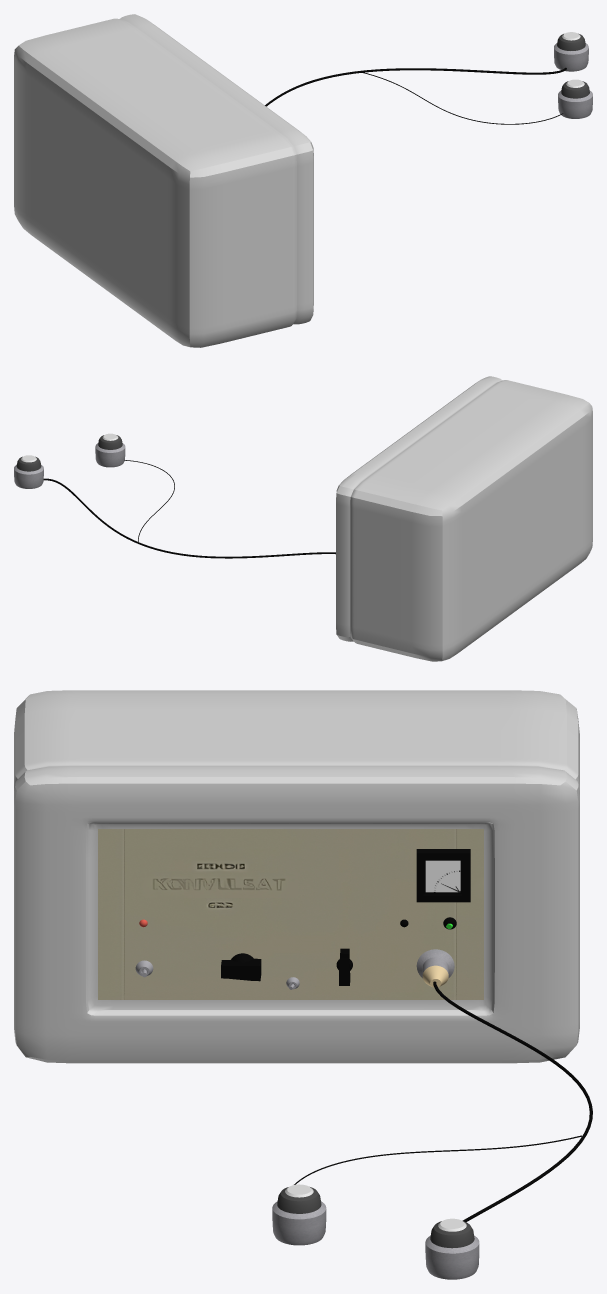
The model's file is ElettroshockOR2.fbx.
3 renders of one model, top to bottom at view 1: azimuth 30°, elevation 25°; view 2: azimuth 150°, elevation 25°; view 3: azimuth 270°, elevation 25°, orthographic. The views are drawn at different scales.
Parts seen in each view (by area): view 1: Leva1.004; view 2: Leva1.004; view 3: Leva1.004.
Part boxes in pixels (<box>): Leva1.004: <box>14,14,592,347</box>; Leva1.004: <box>14,376,592,661</box>; Leva1.004: <box>14,690,592,1279</box>.
Bounding box in the file's own units: 121 × 39.94 × 72.91.
19 materials, 5 textured.
